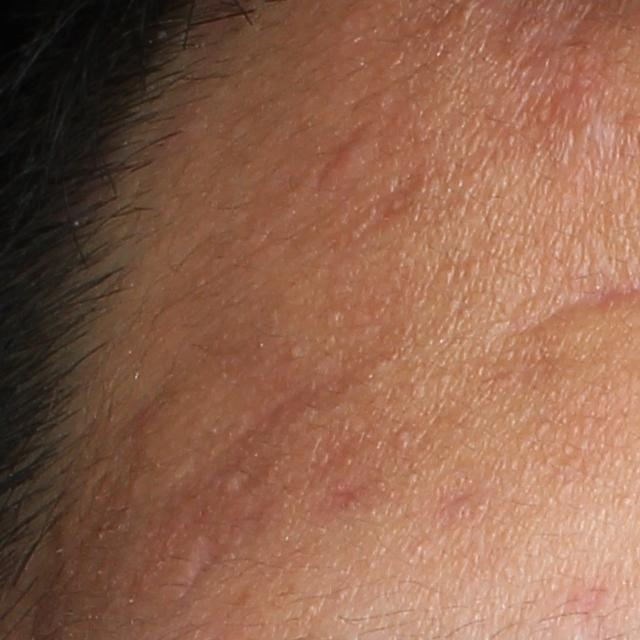comedo: (222, 472, 244, 493), (287, 339, 305, 360), (394, 428, 411, 442)
